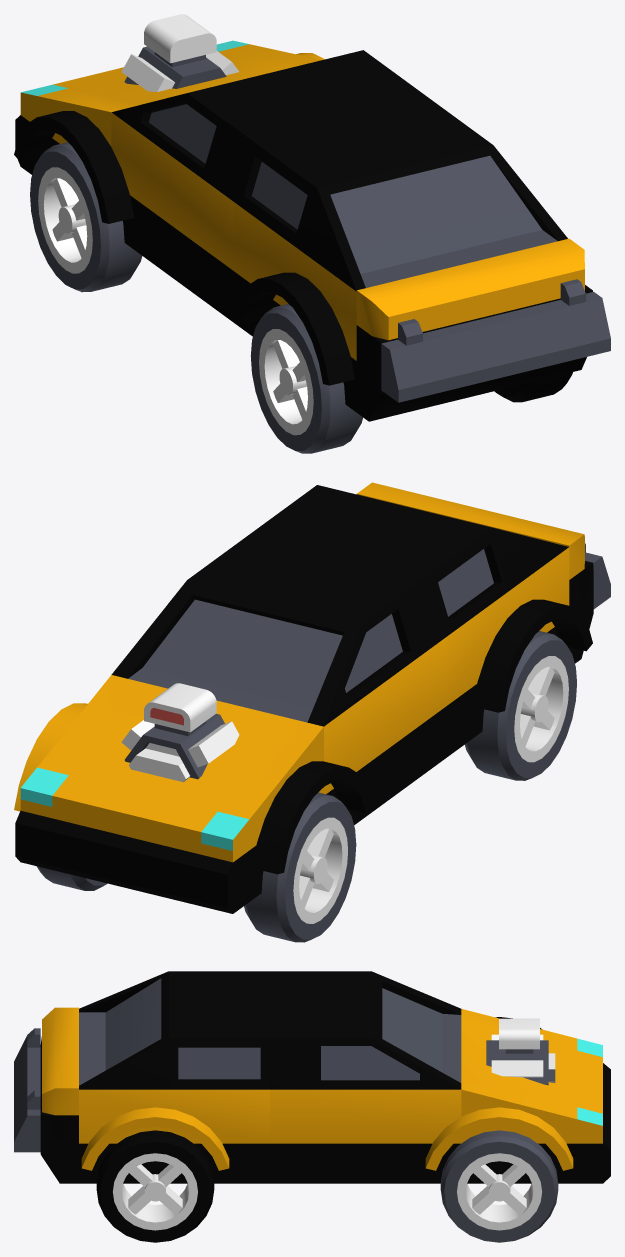
File: Taxi.fbx
The picture shows the model from 3 angles, top to bottom: view 1: azimuth 30°, elevation 25°; view 2: azimuth 150°, elevation 25°; view 3: azimuth 270°, elevation 25°; orthographic projection. The views are drawn at different scales.
Visible parts, largest first — view 1: windshield_sports_6, windshield_default_8, trunk_sports%_7, detail_bumper_19, wheel_smallSports_12, wheel_smallSports_13, hood_short_9, detail_engine_18, detail_fender_17, detail_fender_16, wheel_smallSports_10; view 2: windshield_default_8, hood_short_9, windshield_sports_6, wheel_smallSports_12, wheel_smallSports_13, detail_engine_18, trunk_sports%_7, detail_fender_17, detail_fender_16, detail_fender_15, detail_bumper_19, wheel_smallSports_11; view 3: windshield_default_8, windshield_sports_6, hood_short_9, wheel_smallSports_10, wheel_smallSports_11, trunk_sports%_7, detail_engine_18, detail_fender_14, detail_fender_15, detail_bumper_19.
Part boxes in pixels (x1,y1,x2,y2): windshield_sports_6: (234,97,567,412); windshield_default_8: (111,50,427,322); trunk_sports%_7: (356,238,592,421); detail_bumper_19: (381,279,610,402); wheel_smallSports_12: (30,142,142,292); wheel_smallSports_13: (250,304,362,453); hood_short_9: (15,40,321,174); detail_engine_18: (121,14,239,91); detail_fender_17: (235,272,354,385); detail_fender_16: (14,111,134,223); wheel_smallSports_10: (494,372,572,402); windshield_default_8: (111,532,446,825); hood_short_9: (15,675,323,913); windshield_sports_6: (252,485,569,757); wheel_smallSports_12: (244,792,356,942); wheel_smallSports_13: (464,631,576,780); detail_engine_18: (121,683,239,782); trunk_sports%_7: (356,482,593,663); detail_fender_17: (473,599,592,712); detail_fender_16: (252,761,371,874); detail_fender_15: (14,703,87,811); detail_bumper_19: (585,543,610,609); wheel_smallSports_11: (37,866,107,890); windshield_default_8: (270,971,461,1183); windshield_sports_6: (79,971,269,1183); hood_short_9: (461,1009,610,1183); wheel_smallSports_10: (96,1130,214,1242); wheel_smallSports_11: (440,1130,558,1242); trunk_sports%_7: (40,1007,78,1183); detail_engine_18: (486,1018,555,1085); detail_fender_14: (81,1107,229,1170); detail_fender_15: (425,1107,573,1170); detail_bumper_19: (14,1028,40,1152).
Bounding box in the file's own units: 12.4 × 11.08 × 31.23.
